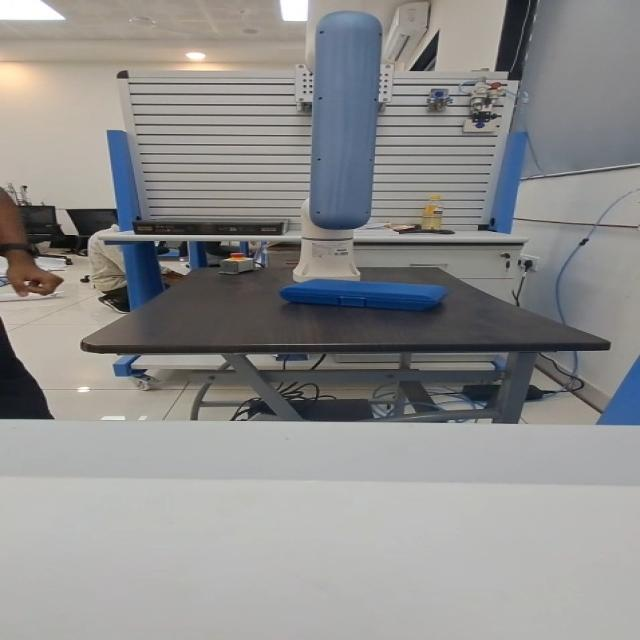top-surface: (308, 281, 425, 292)
